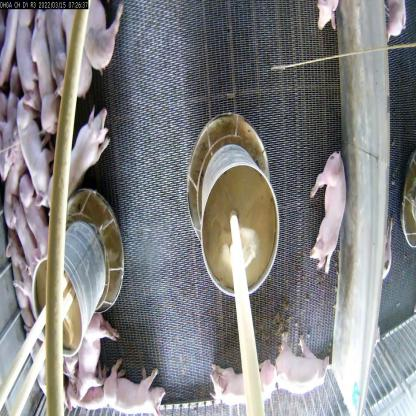Pig: (39, 102, 106, 188), (64, 282, 106, 416), (25, 9, 58, 163), (7, 144, 49, 262), (312, 142, 346, 275), (270, 326, 330, 400), (202, 344, 275, 399), (117, 356, 168, 416), (82, 5, 111, 72)
